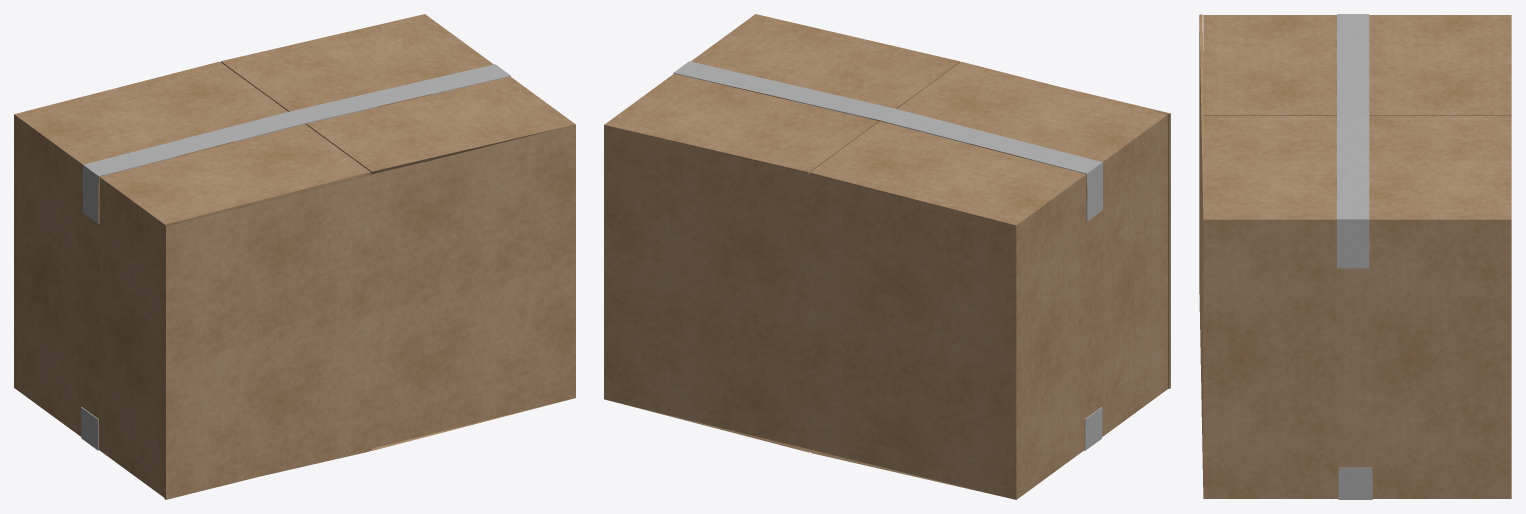
The model's file is cardboard_box.glb.
3 renders of one model, left to right at view 1: azimuth 30°, elevation 25°; view 2: azimuth 150°, elevation 25°; view 3: azimuth 270°, elevation 25°, orthographic. The views are drawn at different scales.
Visible parts, largest first — view 1: Cube, Cube.001; view 2: Cube, Cube.001; view 3: Cube, Cube.001.
Boxes of the visible parts, x1,y1,x2,y2 form: Cube: (14, 14, 575, 499); Cube.001: (81, 64, 510, 450); Cube: (604, 14, 1170, 499); Cube.001: (673, 61, 1102, 450); Cube: (1199, 14, 1511, 498); Cube.001: (1337, 14, 1372, 499).
Size of the model in its own units: 3.16 by 2.06 by 2.03.
1 material, 1 textured.
